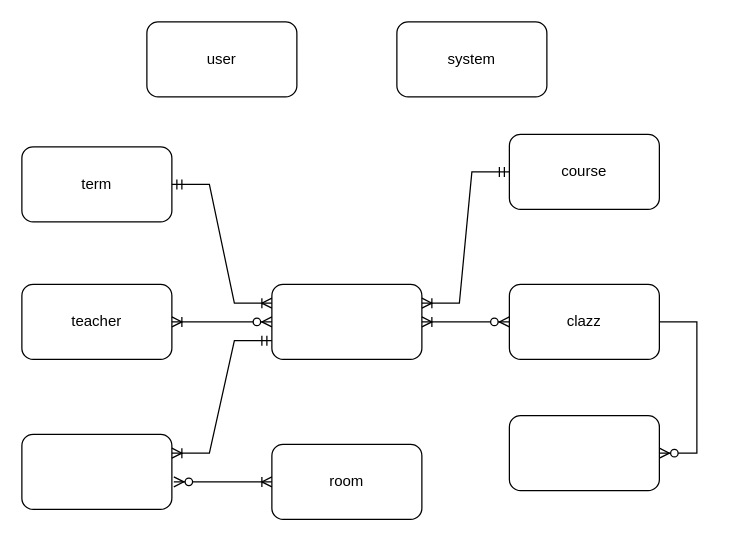
This 729x541 diagram has some shape labels left out. Each missing label, with the centre of its shape:
"dispatch" goes at (96,471).
"schedule" goes at (346,321).
"student" goes at (583,452).
